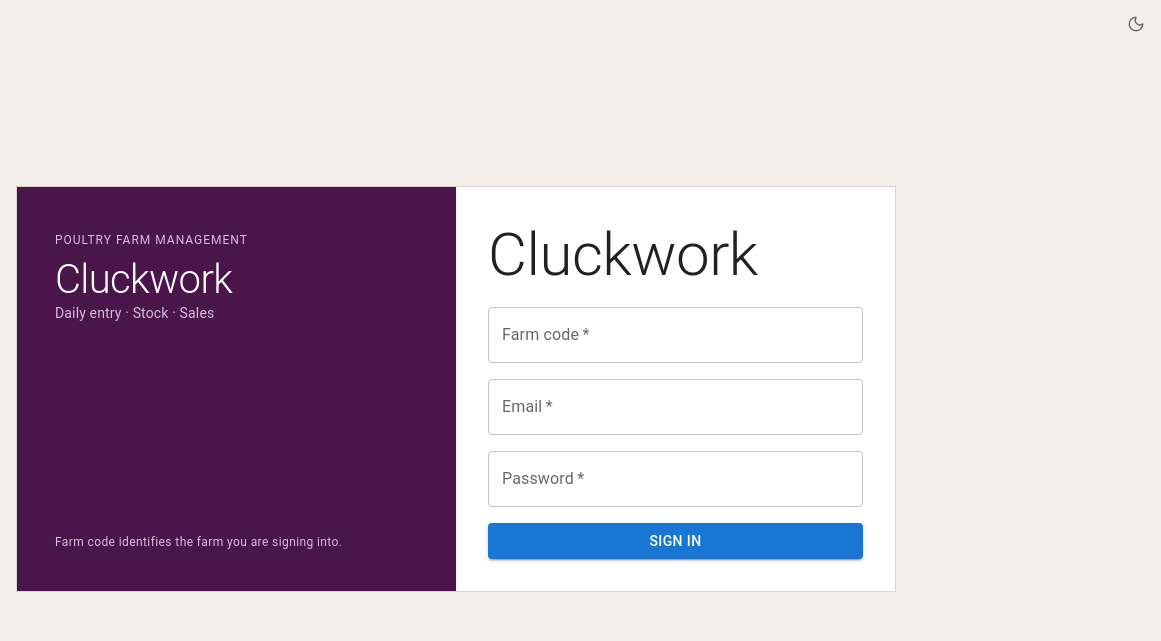
Test: Login › shows an invalid-credentials message on a 401 and stays on /login
This screenshot has width=1161, height=641.
Type "default-farm" into the field labelled "Farm code *" at [676, 335], box [488,307,863,363]
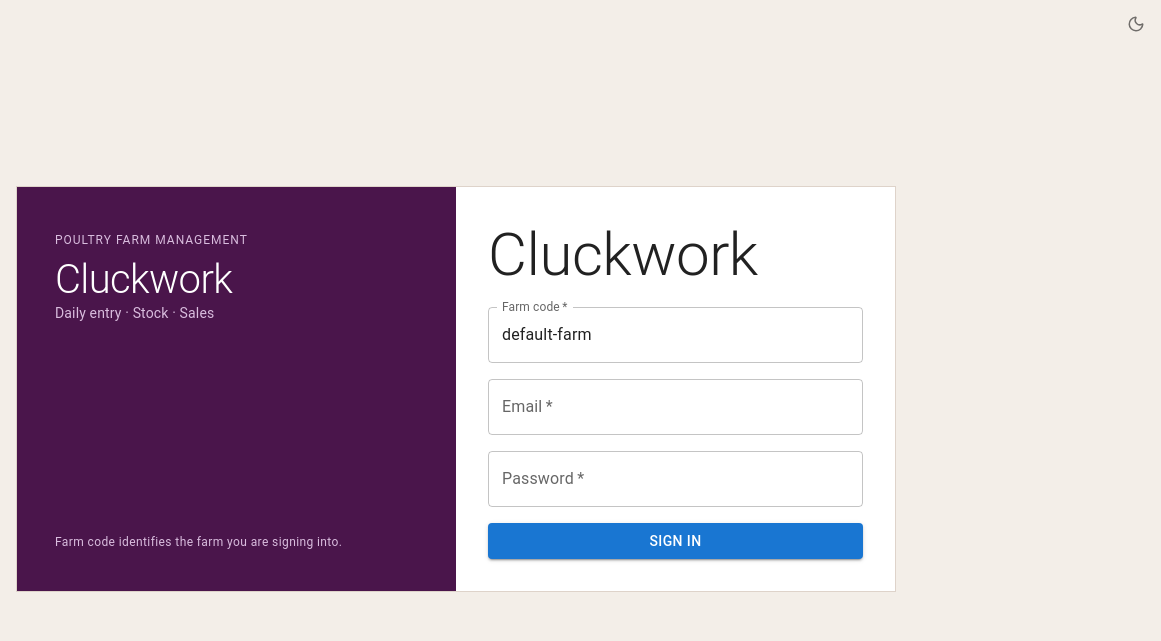
Type "owner@farm.co" into the field labelled "Email *" at [676, 407], box [488,379,863,435]
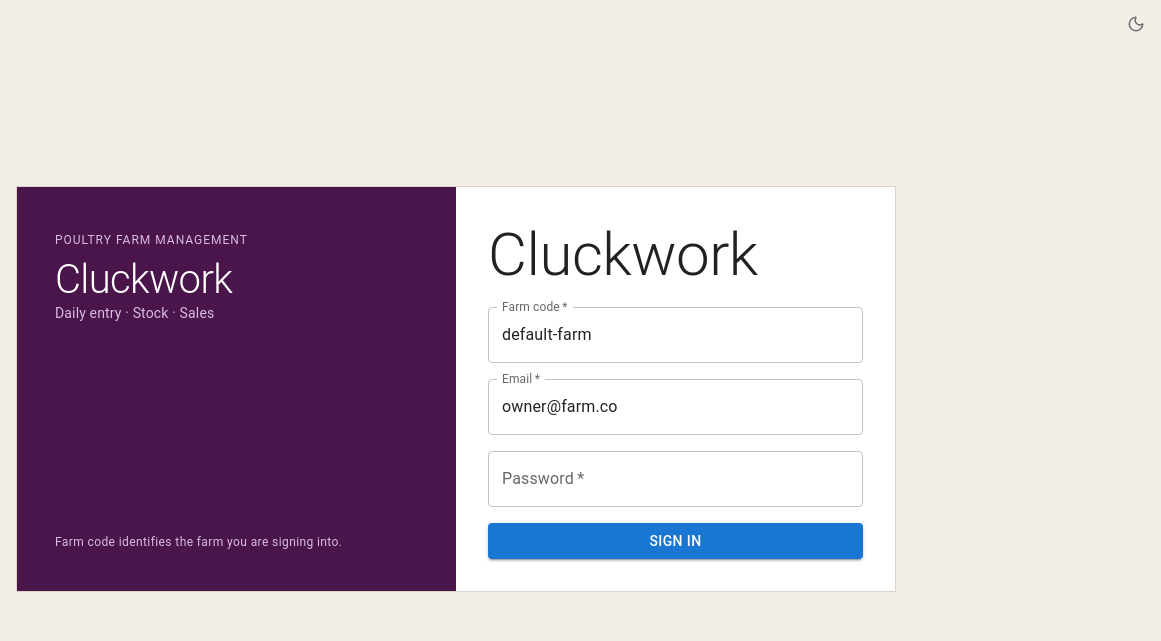
Type "wrong" into the password field labelled "Password *" at [676, 479], box [488,451,863,507]
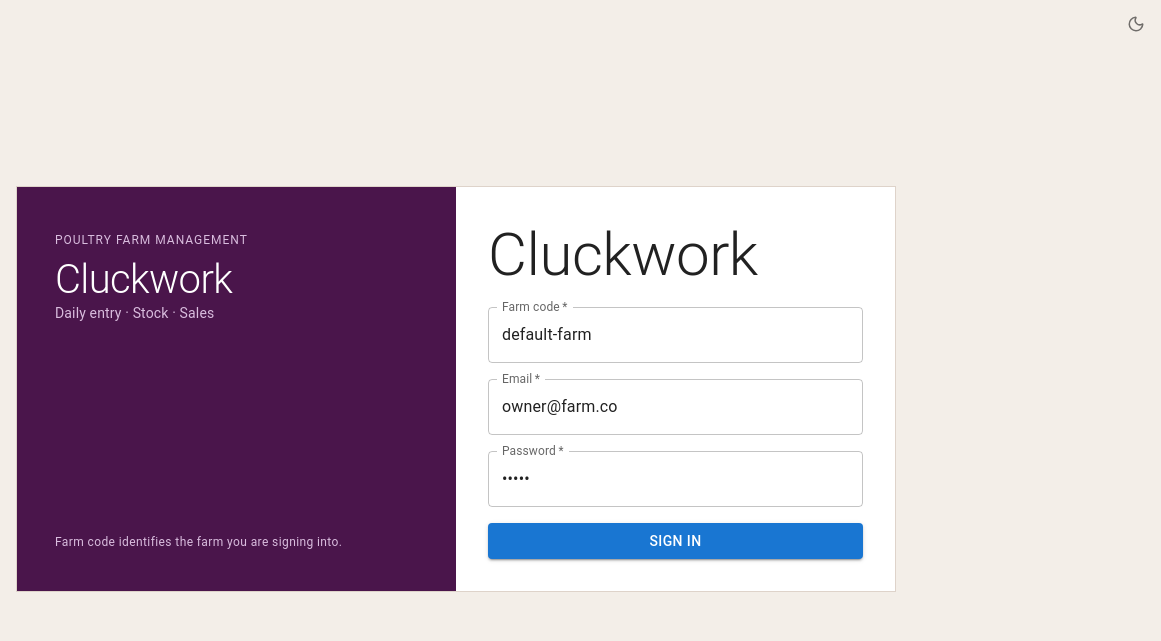
Click the button "Sign in" at [676, 541], box [488,523,863,559]
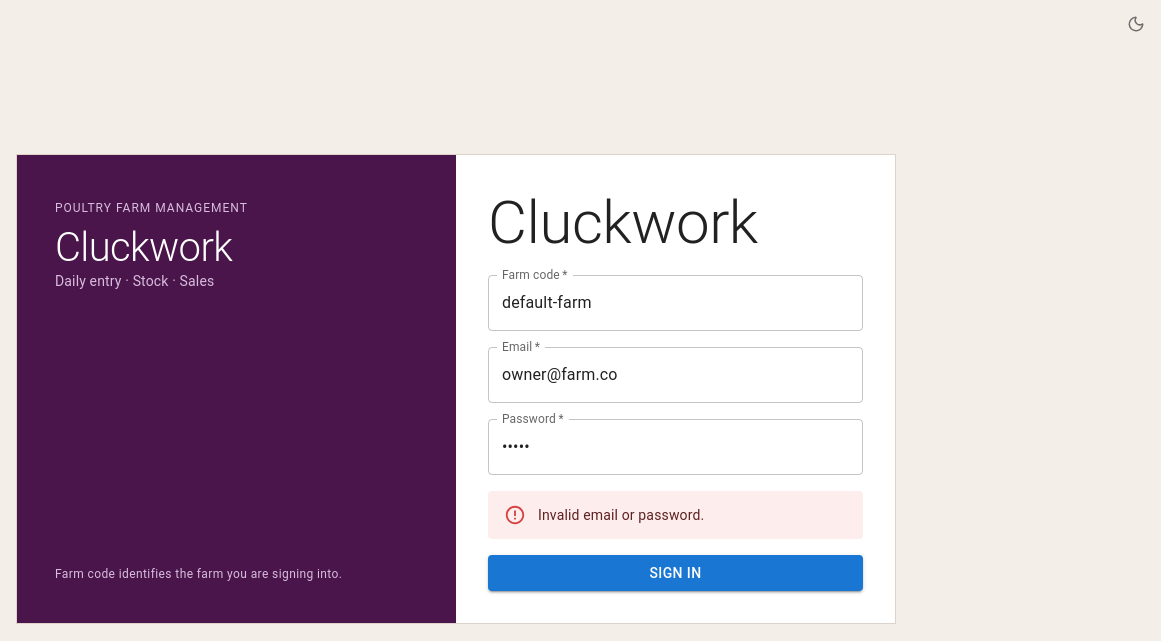
Check: the text "Invalid email or password." is shown, box [538,507,704,523]
